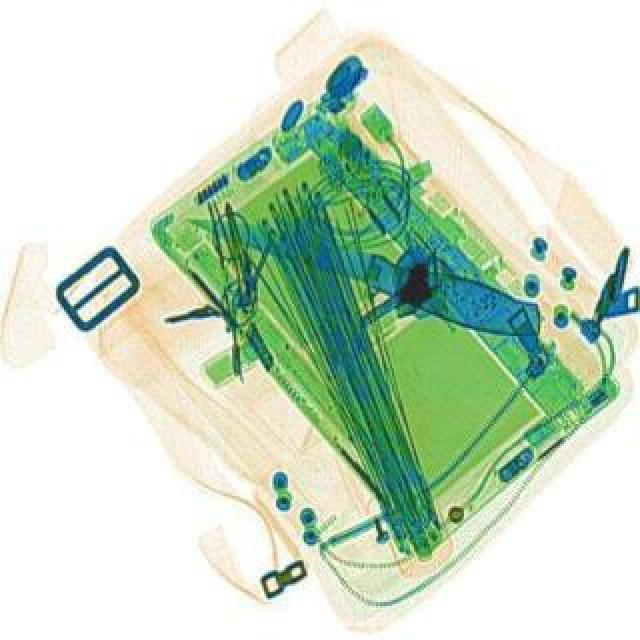knife: (180, 196, 548, 344)
